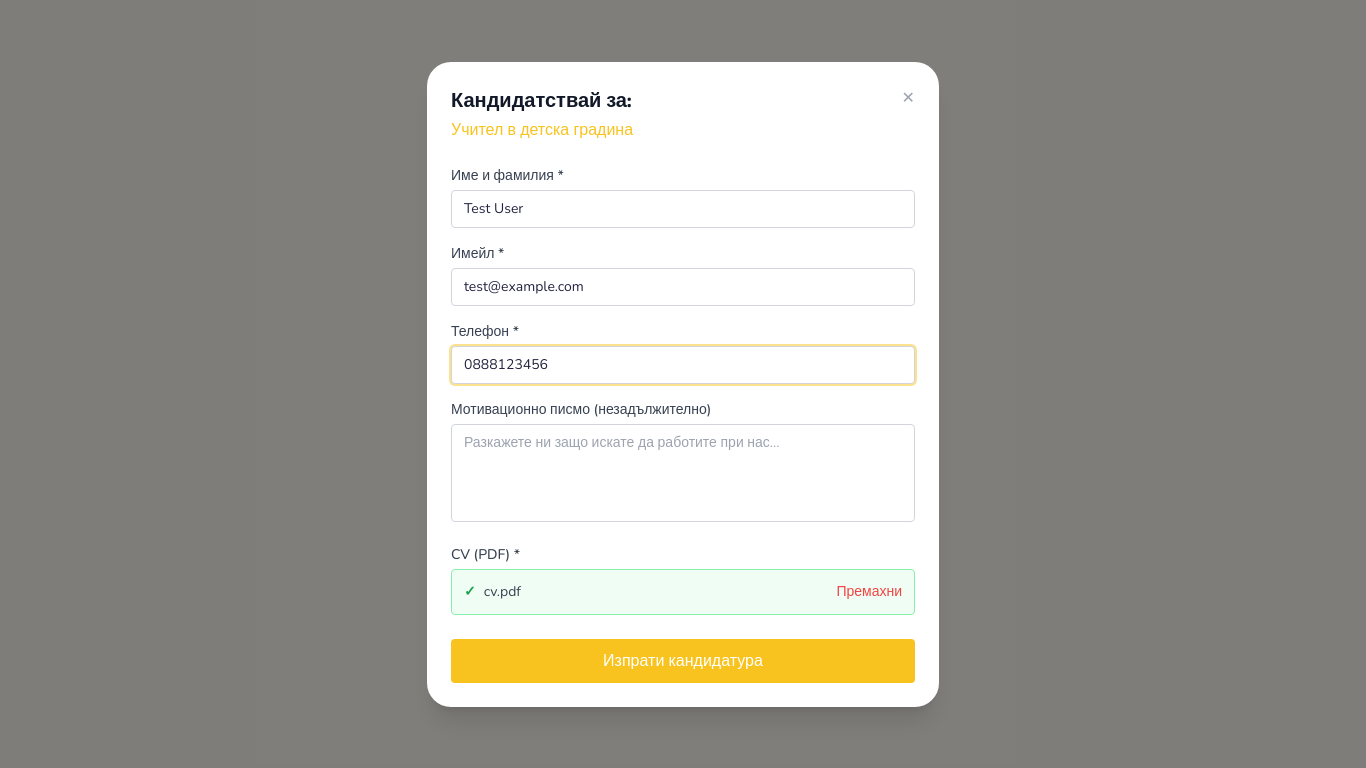
Test case: JobApplicationModal › shows generic error on non-429 API failure
The image size is (1366, 768).
Earlier steps of the test are not shown.
Click the button "Изпрати кандидатура" at (683,660), box [451,638,915,682]
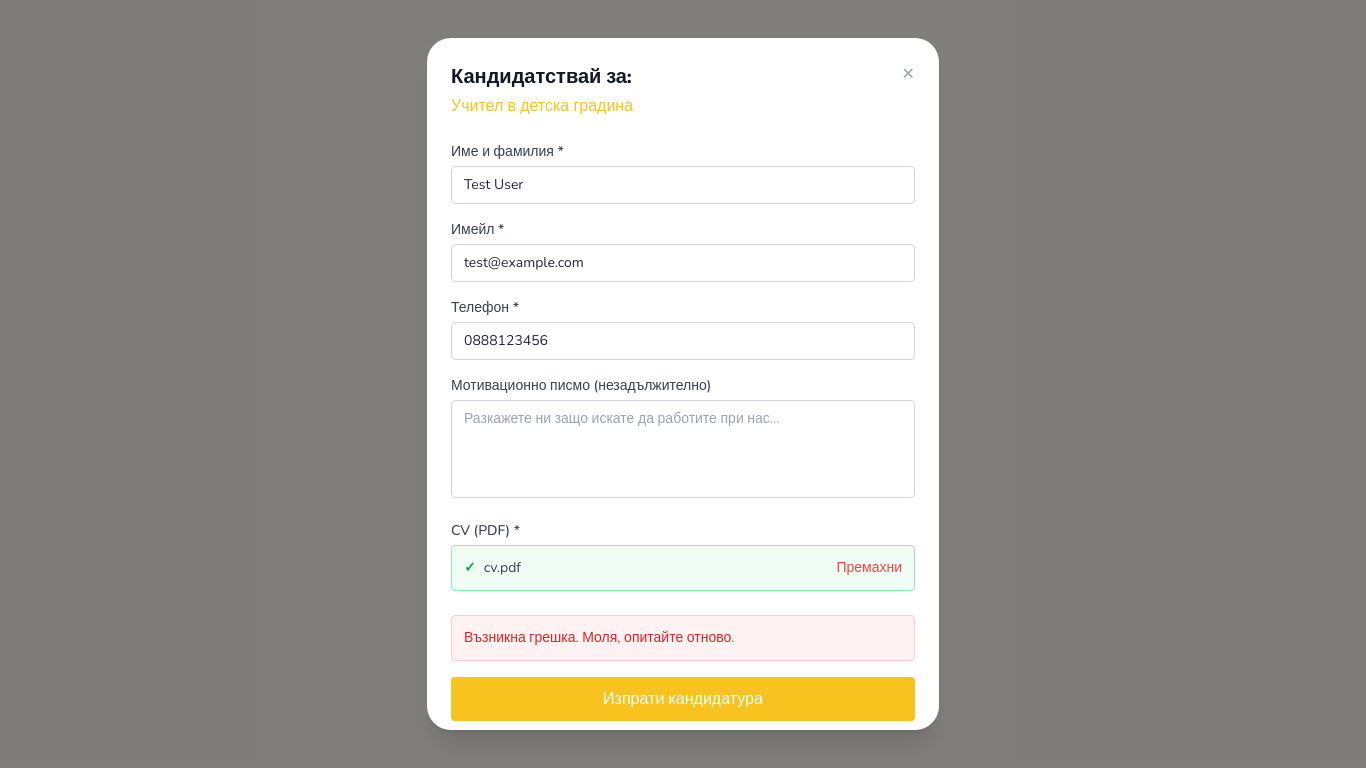
expect the text "Възникна грешка. Моля, опитайте отново." is shown: met, box [451,615,915,661]
